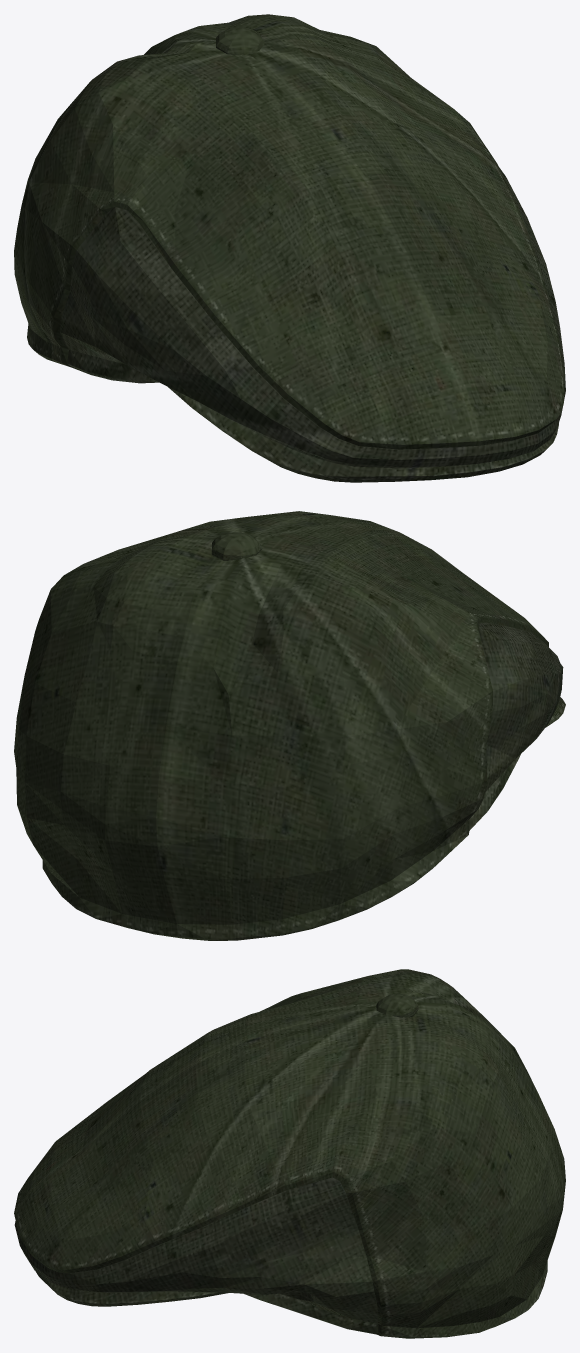
Rendered from HK_BERET_GREEN.glb.
The picture shows the model from 3 angles, top to bottom: view 1: azimuth 30°, elevation 25°; view 2: azimuth 150°, elevation 25°; view 3: azimuth 270°, elevation 25°; orthographic projection. The views are drawn at different scales.
Parts seen in each view (by area): view 1: HK_BERET_GREEN; view 2: HK_BERET_GREEN; view 3: HK_BERET_GREEN.
Boxes of the visible parts, box(x1,y1,x2,y2) form: HK_BERET_GREEN: box(14, 14, 565, 482); HK_BERET_GREEN: box(14, 511, 565, 940); HK_BERET_GREEN: box(14, 969, 565, 1338).
Bounding box in the file's own units: 0.2344 × 0.1761 × 0.3107.
Materials: 1 (1 with a texture image).
